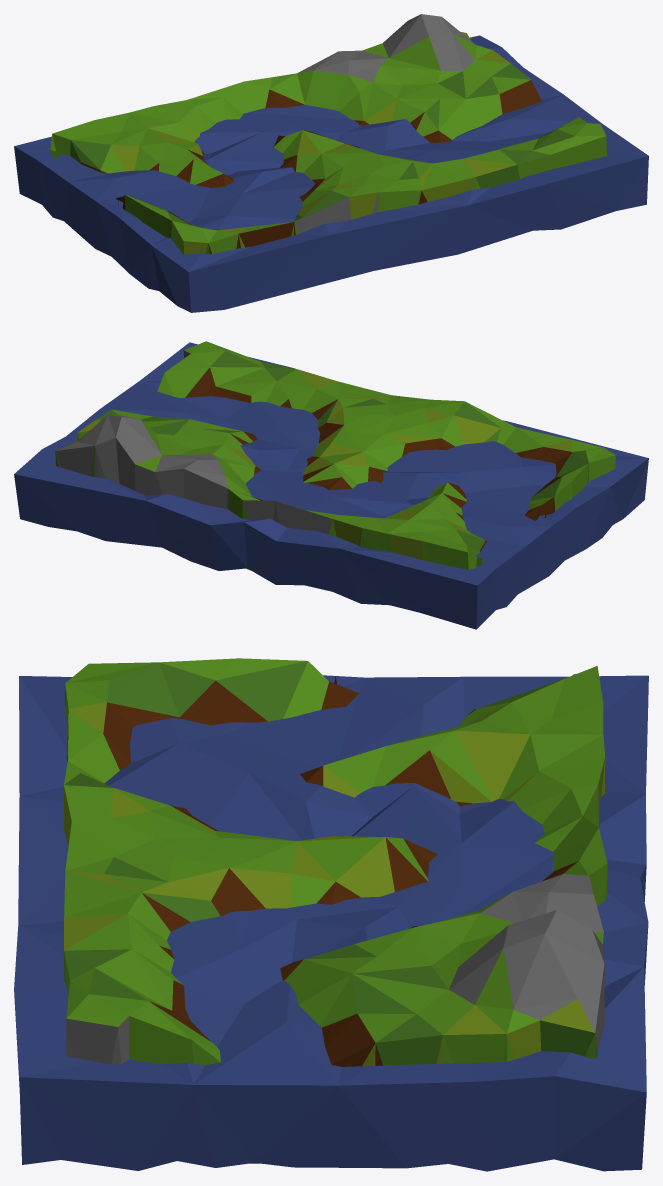
The model's file is Level3.fbx.
The picture shows the model from 3 angles, top to bottom: view 1: azimuth 30°, elevation 25°; view 2: azimuth 150°, elevation 25°; view 3: azimuth 270°, elevation 25°; orthographic projection. The views are drawn at different scales.
Parts seen in each view (by area): view 1: Plane.021, Map.012; view 2: Plane.021, Map.012; view 3: Plane.021, Map.012.
Boxes of the visible parts, x1=… form: Plane.021: x1=14, y1=35, x2=648, y2=312; Map.012: x1=50, y1=14, x2=606, y2=254; Plane.021: x1=14, y1=342, x2=648, y2=629; Map.012: x1=55, y1=341, x2=615, y2=570; Plane.021: x1=14, y1=675, x2=648, y2=1171; Map.012: x1=64, y1=658, x2=607, y2=1163.
Bounding box in the file's own units: 158 × 36.74 × 103.
